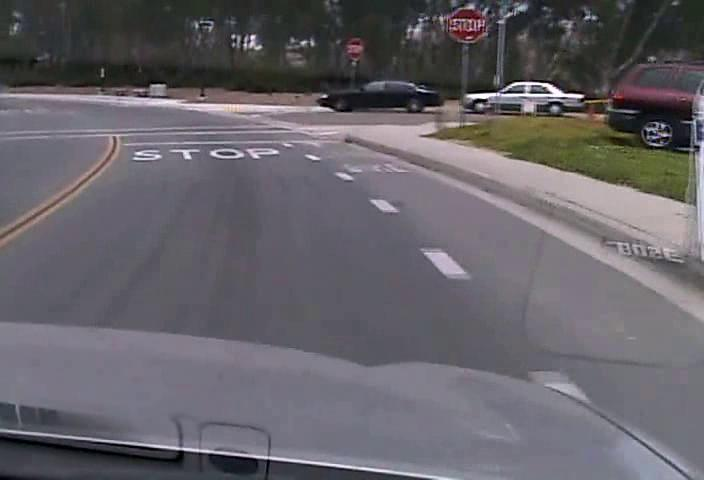stop: (447, 6, 485, 42)
